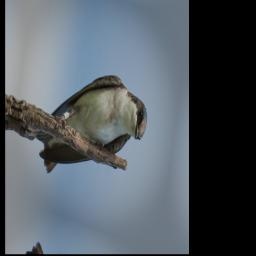Swallow: (31, 49, 152, 210)
